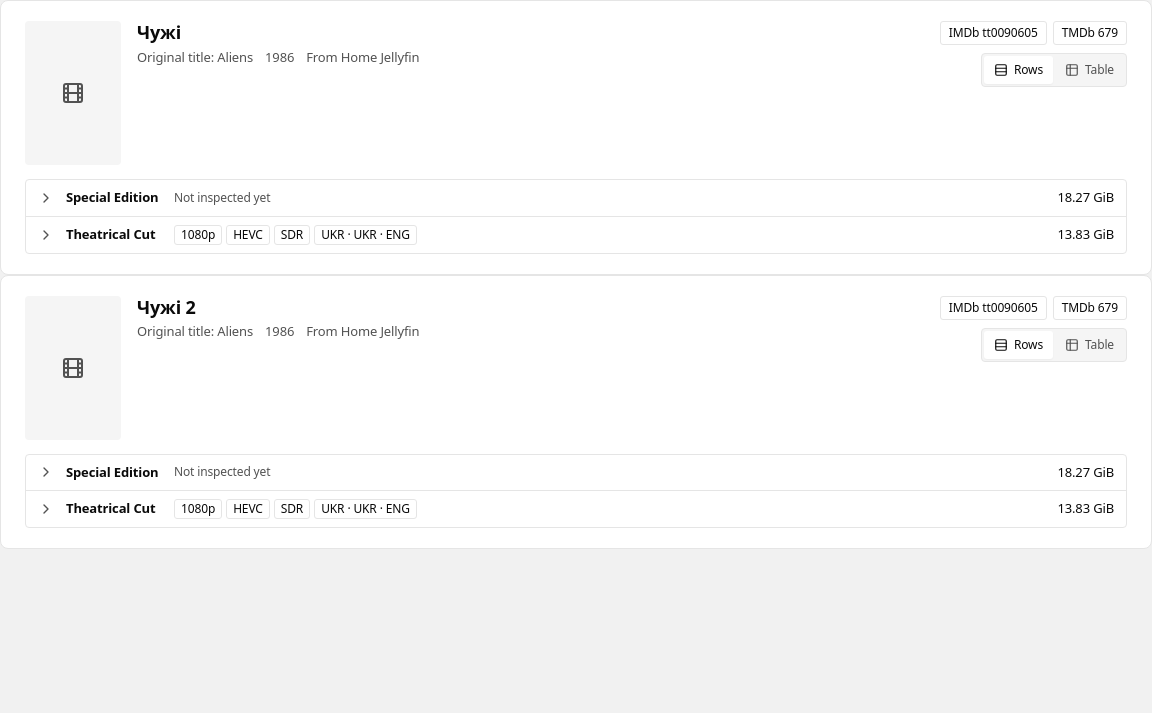
it: LibraryWorkCard versions › the switch › switches every card on the page at once
Click the 1st radio button labelled "Table".
click(1090, 70)  # box [1065, 61, 1114, 78]
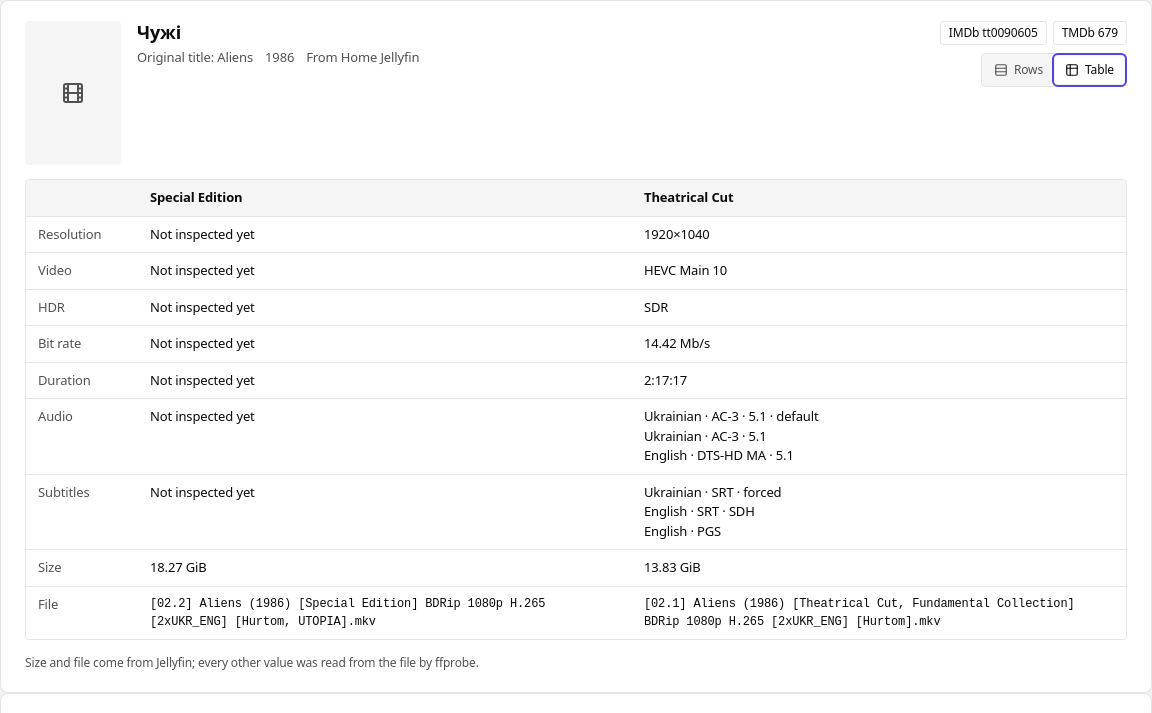
Now the number of tables named "Versions" is 2
